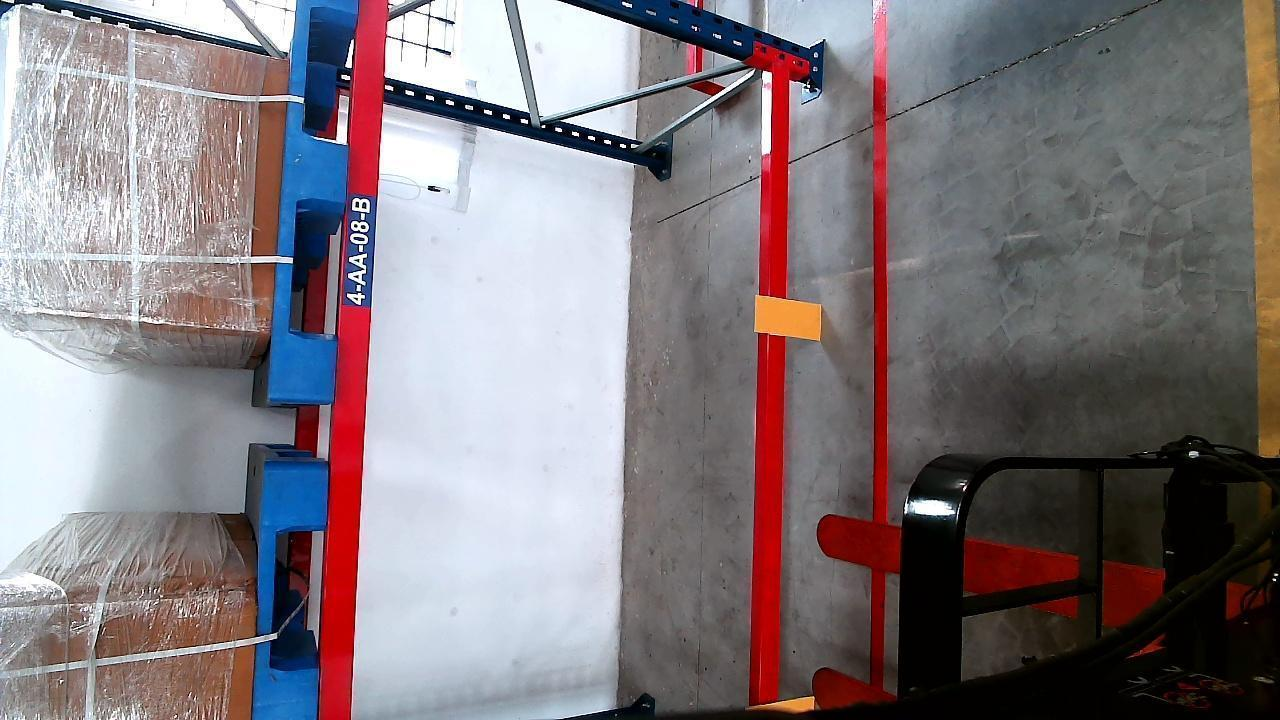red_line: (870, 0, 894, 541)
yellow_line: (1247, 0, 1279, 458)
